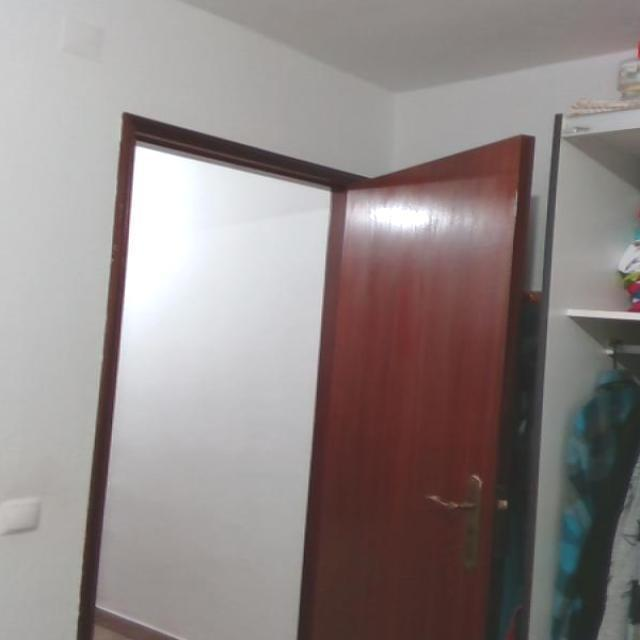door: (317, 131, 537, 638)
